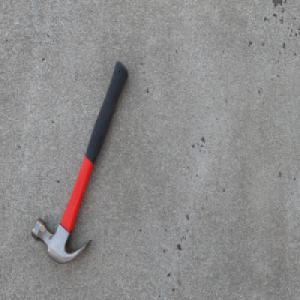Hammer: (30, 58, 129, 265)
